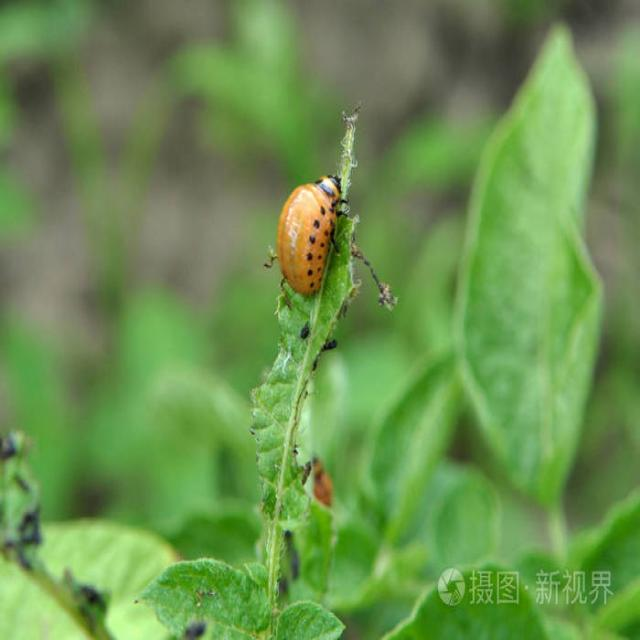ShuCaiHuaBanChong-Larva-: (268, 170, 348, 318)
